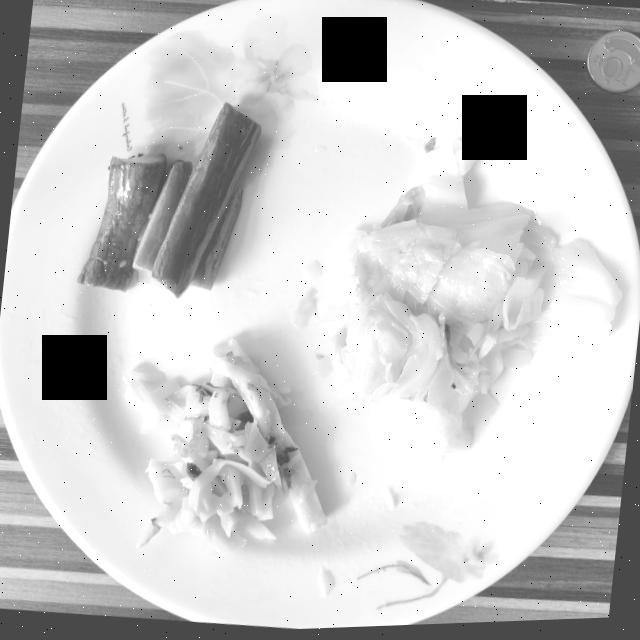cabbage: (322, 143, 620, 463)
coin: (585, 35, 640, 97)
cucumber: (76, 105, 260, 298)
